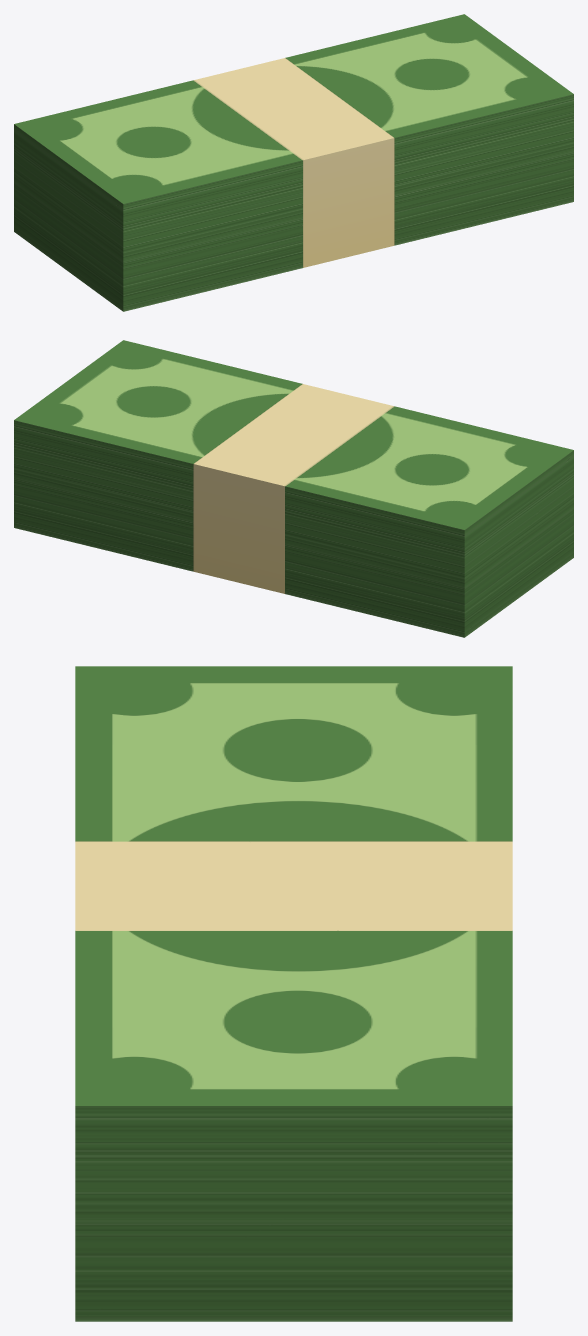
File: reward-pack.fbx
3 views of the same model, one above another, from view 1: azimuth 30°, elevation 25°; view 2: azimuth 150°, elevation 25°; view 3: azimuth 270°, elevation 25° (orthographic). The views are drawn at different scales.
Visible parts, largest first — view 1: PileOfCash_PileOfCash_0; view 2: PileOfCash_PileOfCash_0; view 3: PileOfCash_PileOfCash_0.
Boxes of the visible parts, x1,y1,x2,y2 form: PileOfCash_PileOfCash_0: (14,14,573,311); PileOfCash_PileOfCash_0: (14,340,573,637); PileOfCash_PileOfCash_0: (75,666,512,1321).
Size of the model in its own units: 35.99 by 8.22 by 15.13.
